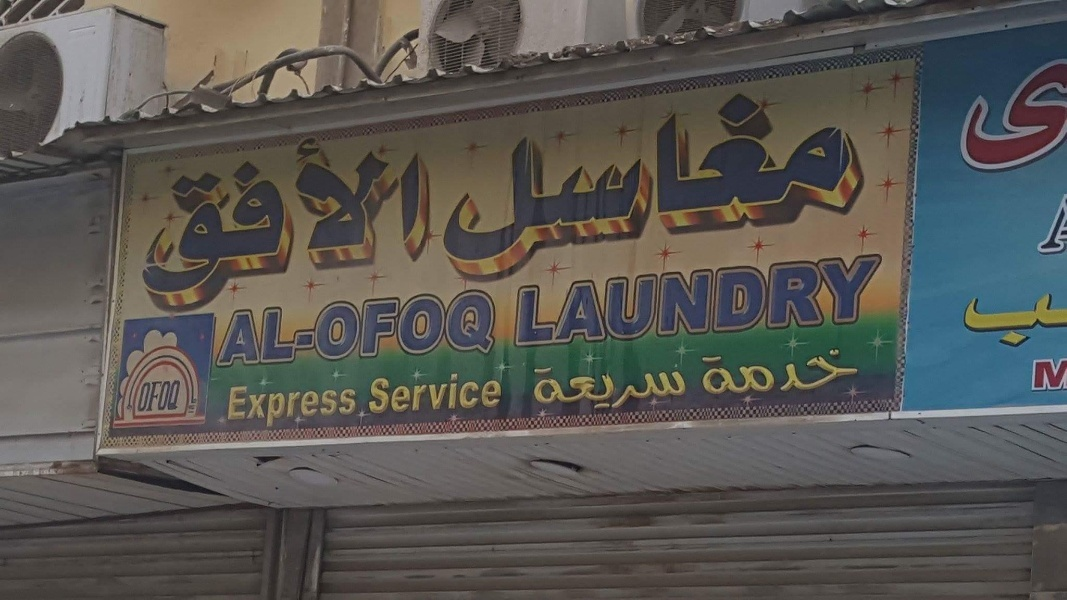text: (449, 69, 464, 290), (465, 69, 480, 290), (481, 69, 496, 290), (497, 69, 512, 290), (513, 69, 528, 290), (529, 69, 544, 290), (545, 69, 560, 290), (561, 69, 576, 290), (577, 69, 592, 290), (593, 69, 608, 290), (609, 69, 624, 290), (625, 69, 640, 290), (641, 69, 656, 290), (657, 69, 672, 290), (673, 69, 688, 290), (689, 69, 704, 290), (705, 69, 720, 290), (721, 69, 736, 290), (737, 69, 752, 290), (753, 69, 768, 290), (769, 69, 784, 290), (785, 69, 800, 290), (801, 69, 816, 290), (817, 69, 832, 290), (833, 69, 848, 290), (849, 69, 864, 290), (161, 115, 176, 321), (177, 115, 192, 321), (193, 115, 208, 321), (209, 115, 224, 321), (225, 115, 240, 321), (241, 115, 256, 321), (257, 115, 272, 321), (273, 115, 288, 321), (289, 115, 304, 321), (305, 115, 320, 321), (321, 115, 336, 321), (337, 115, 352, 321), (353, 115, 368, 321), (369, 115, 384, 321), (385, 115, 400, 321), (401, 115, 416, 321), (417, 115, 432, 321), (147, 115, 160, 321), (961, 52, 976, 180), (977, 52, 992, 180), (993, 52, 1008, 180), (1009, 52, 1024, 180), (1025, 52, 1040, 180), (1041, 52, 1056, 180), (529, 251, 544, 351), (545, 251, 560, 351), (561, 251, 576, 351), (577, 251, 592, 351), (593, 251, 608, 351), (609, 251, 624, 351), (625, 251, 640, 351), (641, 251, 656, 351), (657, 251, 672, 351), (673, 251, 688, 351), (689, 251, 704, 351), (705, 251, 720, 351), (721, 251, 736, 351), (737, 251, 752, 351), (753, 251, 768, 351), (769, 251, 784, 351), (785, 251, 800, 351), (801, 251, 816, 351), (817, 251, 832, 351), (833, 251, 848, 351), (849, 251, 864, 351), (865, 251, 880, 351), (1057, 52, 1067, 180), (225, 287, 240, 370), (241, 287, 256, 370), (257, 287, 272, 370), (273, 287, 288, 370), (289, 287, 304, 370), (305, 287, 320, 370), (321, 287, 336, 370), (337, 287, 352, 370), (353, 287, 368, 370), (369, 287, 384, 370), (385, 287, 400, 370), (401, 287, 416, 370), (417, 287, 432, 370), (433, 287, 448, 370), (449, 287, 464, 370), (465, 287, 480, 370), (481, 287, 496, 370), (961, 273, 976, 354), (977, 273, 992, 354), (993, 273, 1008, 354), (1009, 273, 1024, 354), (1025, 273, 1040, 354), (1041, 273, 1056, 354), (516, 251, 528, 351), (1041, 197, 1056, 258), (1057, 273, 1067, 354), (705, 346, 720, 397), (721, 346, 736, 397), (737, 346, 752, 397), (753, 346, 768, 397), (769, 346, 784, 397), (785, 346, 800, 397), (801, 346, 816, 397), (817, 346, 832, 397), (833, 346, 848, 397), (241, 380, 256, 430), (257, 380, 272, 430), (273, 380, 288, 430), (289, 380, 304, 430), (305, 380, 320, 430), (321, 380, 336, 430), (337, 380, 352, 430), (369, 370, 384, 417), (385, 370, 400, 417), (401, 370, 416, 417), (417, 370, 432, 417), (433, 370, 448, 417), (449, 370, 464, 417), (465, 370, 480, 417), (481, 370, 496, 417), (545, 365, 560, 411), (561, 365, 576, 411), (577, 365, 592, 411), (593, 365, 608, 411), (609, 365, 624, 411), (625, 365, 640, 411), (641, 365, 656, 411), (657, 365, 672, 411), (673, 365, 688, 411), (445, 69, 448, 290), (1041, 354, 1056, 396), (531, 365, 544, 411), (145, 380, 160, 417), (161, 380, 176, 417), (229, 380, 240, 430), (1057, 197, 1066, 258), (694, 346, 704, 397), (849, 346, 859, 397), (1028, 354, 1040, 396), (881, 251, 886, 351), (1032, 197, 1040, 258), (177, 380, 188, 417), (1057, 354, 1066, 396), (497, 370, 504, 417), (353, 380, 358, 430), (865, 69, 866, 290), (433, 115, 434, 321), (141, 380, 144, 417), (223, 287, 224, 370), (497, 287, 498, 370), (959, 273, 960, 354), (689, 365, 690, 411)
